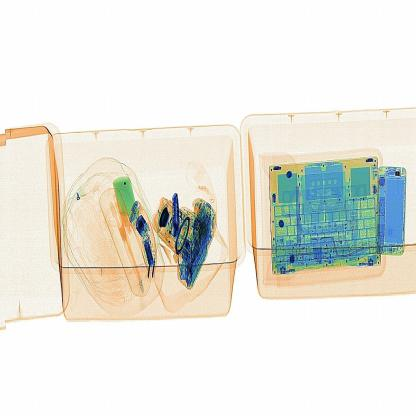knife: (168, 183, 196, 249)
